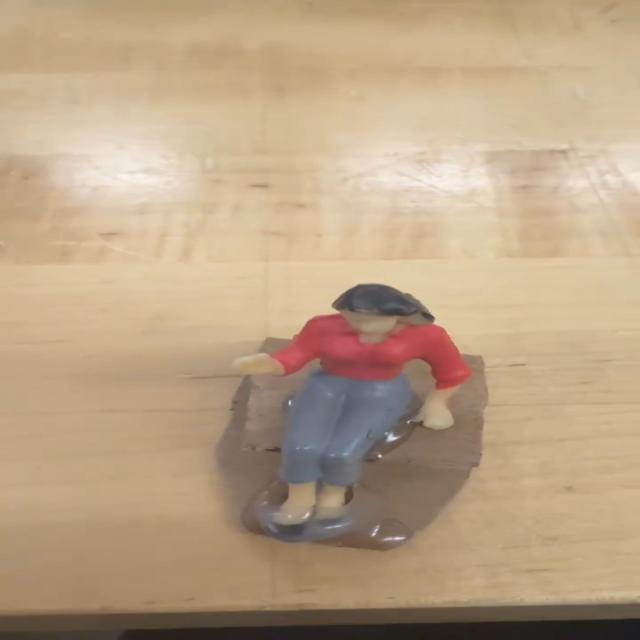Authorized: (215, 279, 484, 534)
